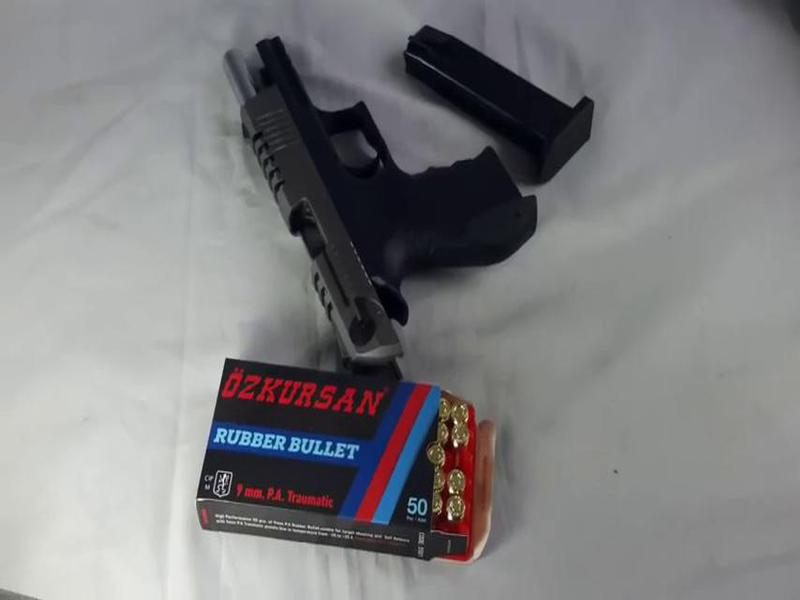Pistola: (206, 20, 562, 393)
